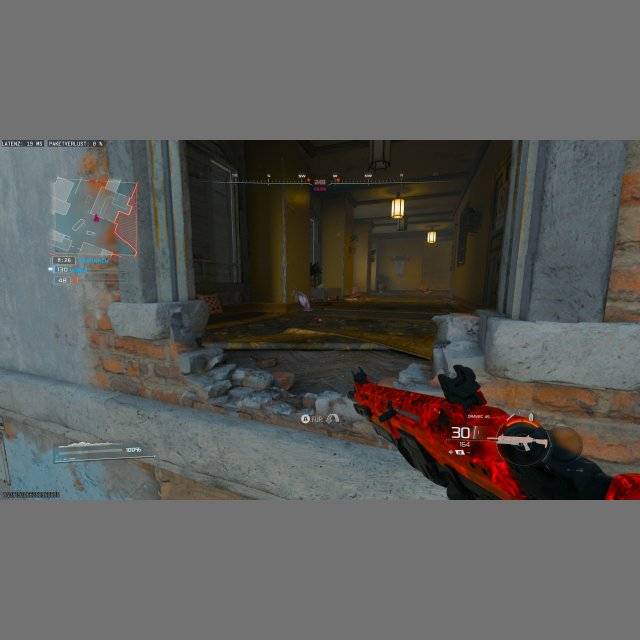player: (310, 261, 322, 288)
